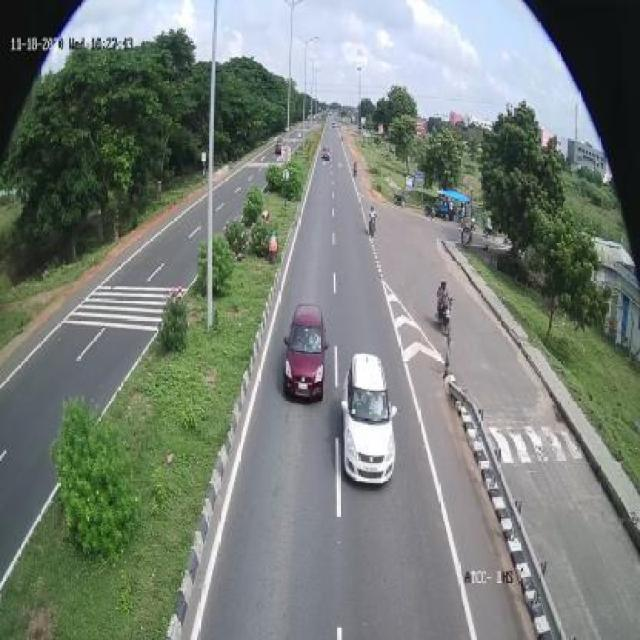car: (345, 348, 397, 489), (283, 299, 331, 403)
